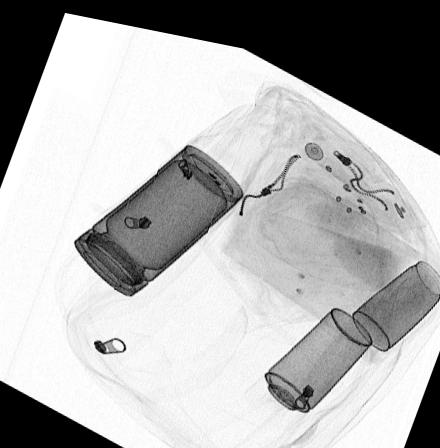Sprayer: (244, 290, 375, 413)
